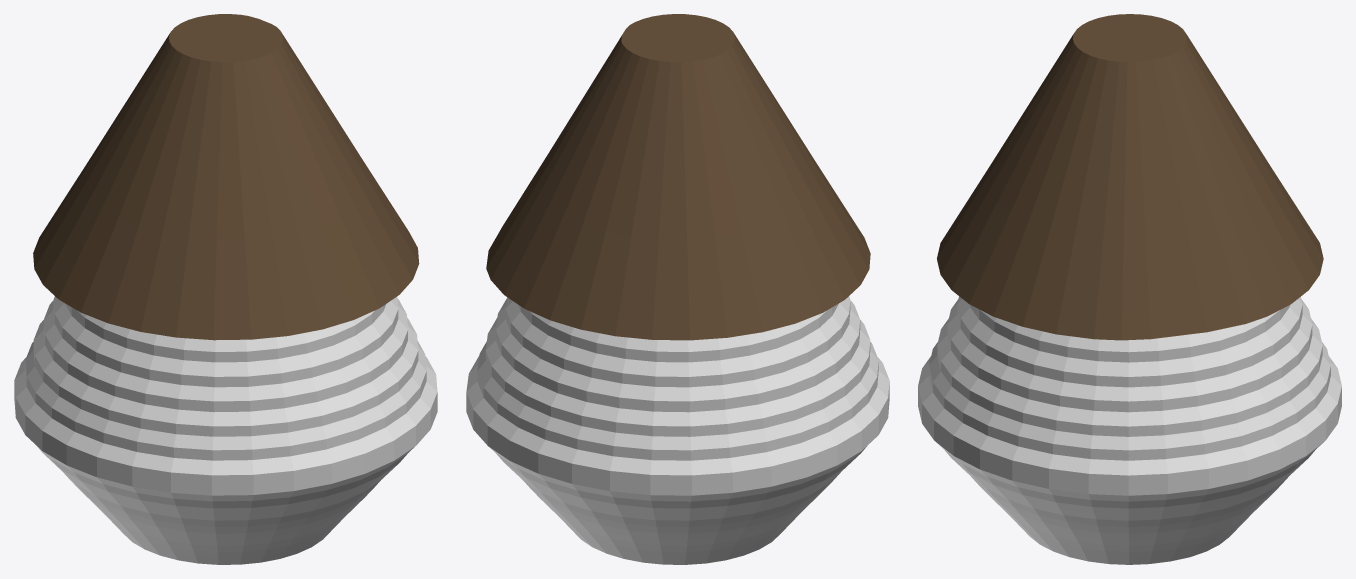
Rendered from Lampara2.fbx.
The picture shows the model from 3 angles, left to right: view 1: azimuth 30°, elevation 25°; view 2: azimuth 150°, elevation 25°; view 3: azimuth 270°, elevation 25°; orthographic projection.
Visible parts, largest first — view 1: Lampara2; view 2: Lampara2; view 3: Lampara2.
Part boxes in pixels (x1,y1,x2,y2): Lampara2: (14, 14, 437, 564); Lampara2: (466, 14, 889, 564); Lampara2: (918, 14, 1341, 564).
Bounding box in the file's own units: 77.44 × 96.96 × 77.44.
